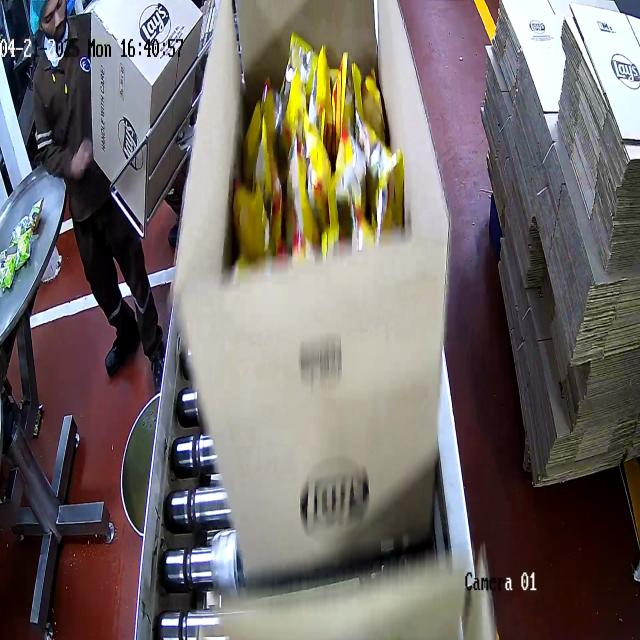SALTED: (231, 43, 401, 267)
